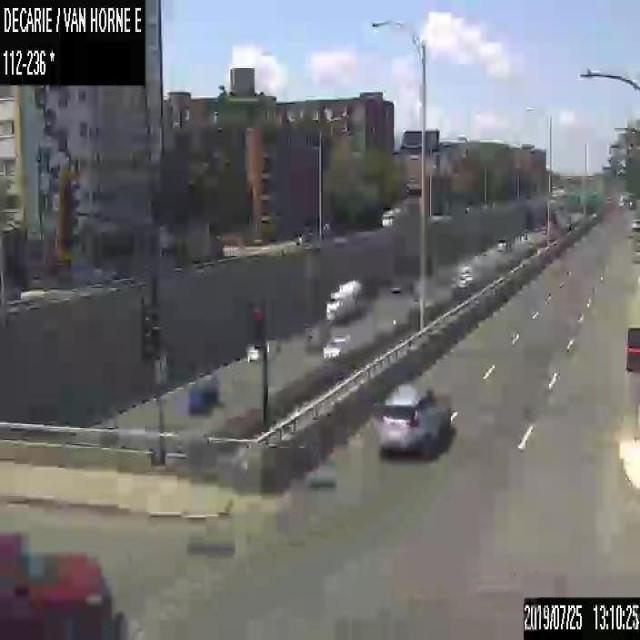vehicle: (0, 530, 111, 638), (375, 385, 452, 460), (324, 279, 365, 324), (188, 377, 216, 412), (321, 334, 350, 358), (246, 341, 274, 360), (389, 275, 411, 293), (631, 216, 639, 228)
